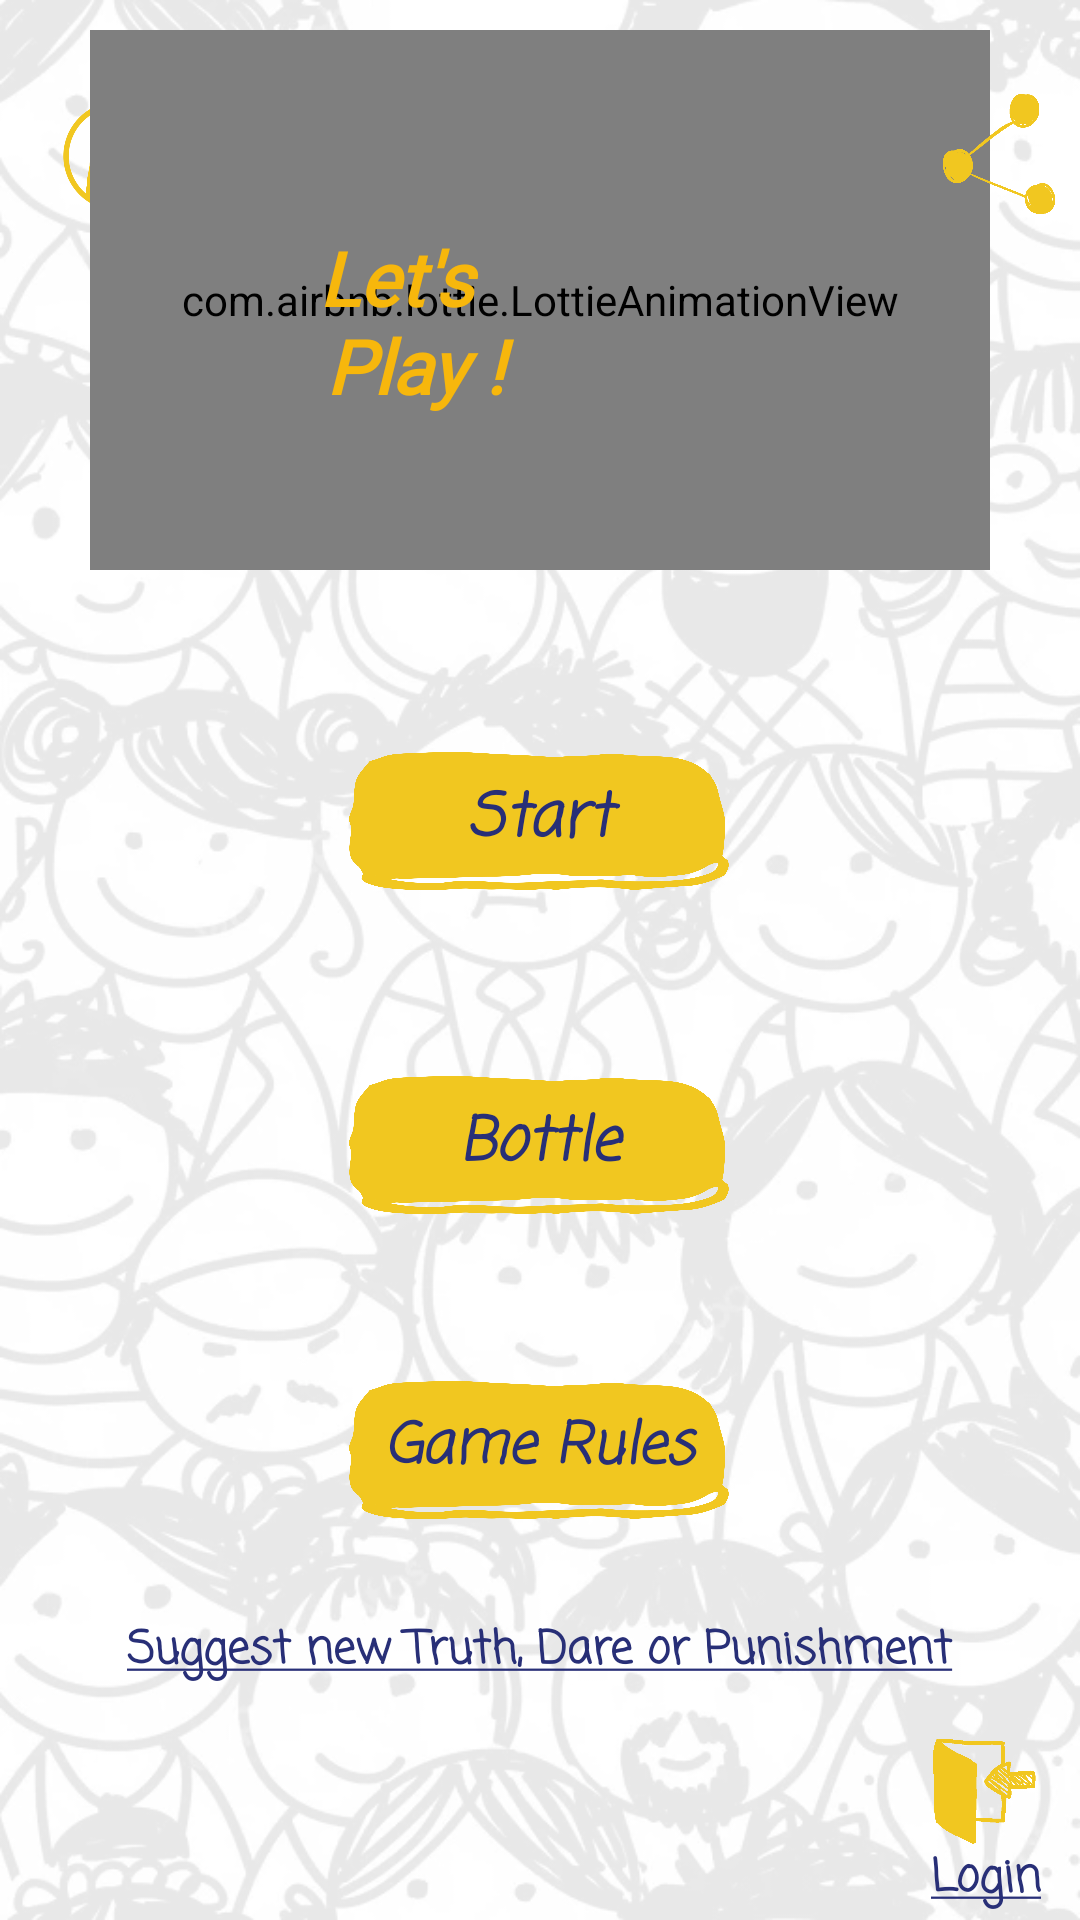

Where to tap for icons on this 1080×1920 app screen, as (x,y):
share: (999,154)
